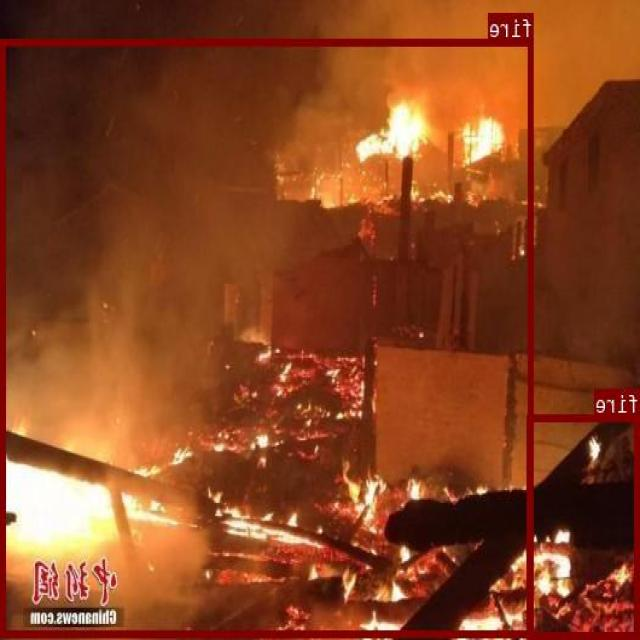fire: (2, 39, 535, 636), (529, 412, 640, 636)
